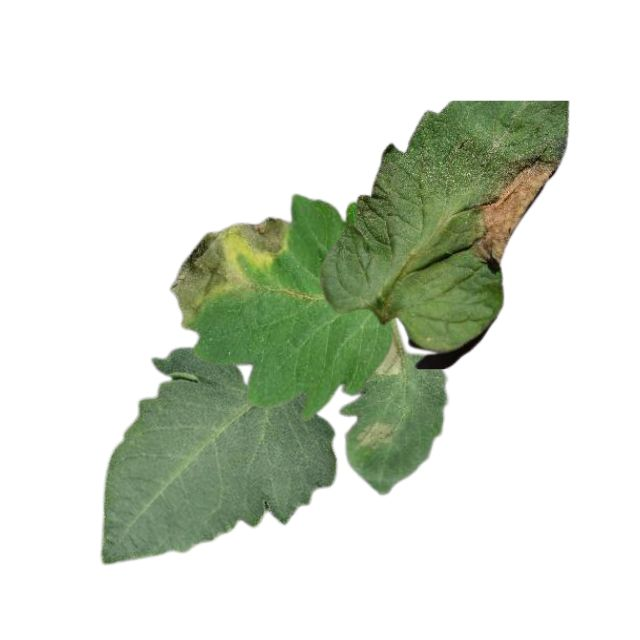Late_blight: (468, 150, 560, 268), (166, 230, 234, 328), (229, 218, 290, 260), (374, 331, 404, 375), (357, 420, 395, 450)
